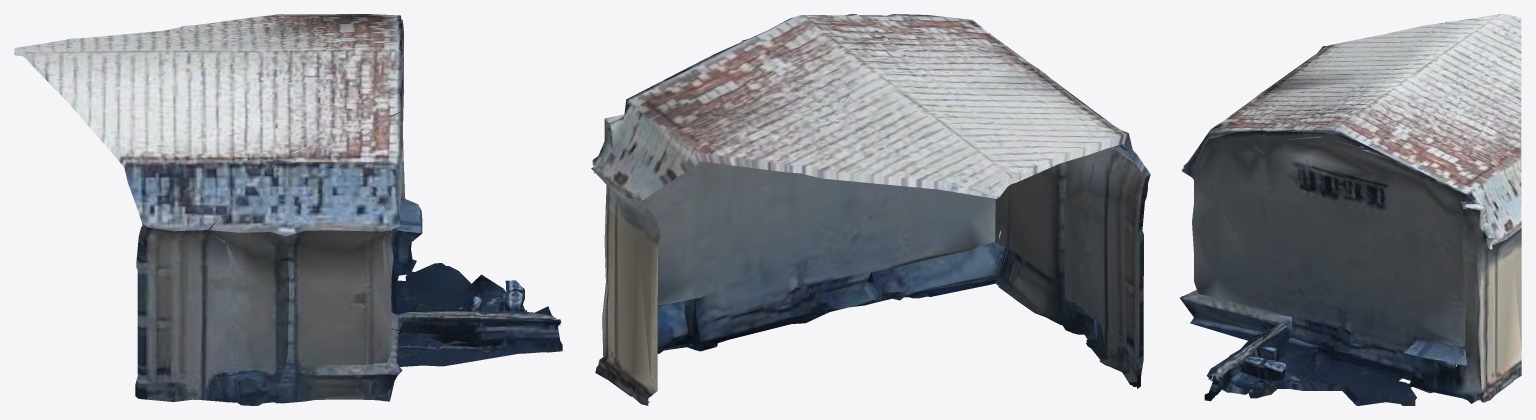
The picture shows the model from 3 angles, left to right: view 1: azimuth 30°, elevation 25°; view 2: azimuth 150°, elevation 25°; view 3: azimuth 270°, elevation 25°; orthographic projection. The views are drawn at different scales.
Visible parts, largest first — view 1: 30436272704370634425_0; view 2: 30436272704370634425_0; view 3: 30436272704370634425_0.
Boxes of the visible parts, left/top/right/bottom form: 30436272704370634425_0: left=14, top=14, right=562, bottom=405; 30436272704370634425_0: left=591, top=14, right=1150, bottom=405; 30436272704370634425_0: left=1180, top=14, right=1521, bottom=405.
Size of the model in its own units: 27.47 by 19.57 by 25.3.
1 material, 1 textured.
